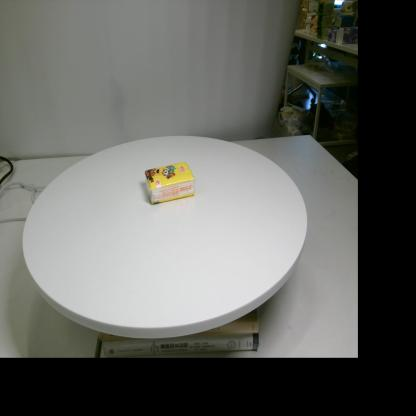Tissue: (144, 161, 196, 205)
